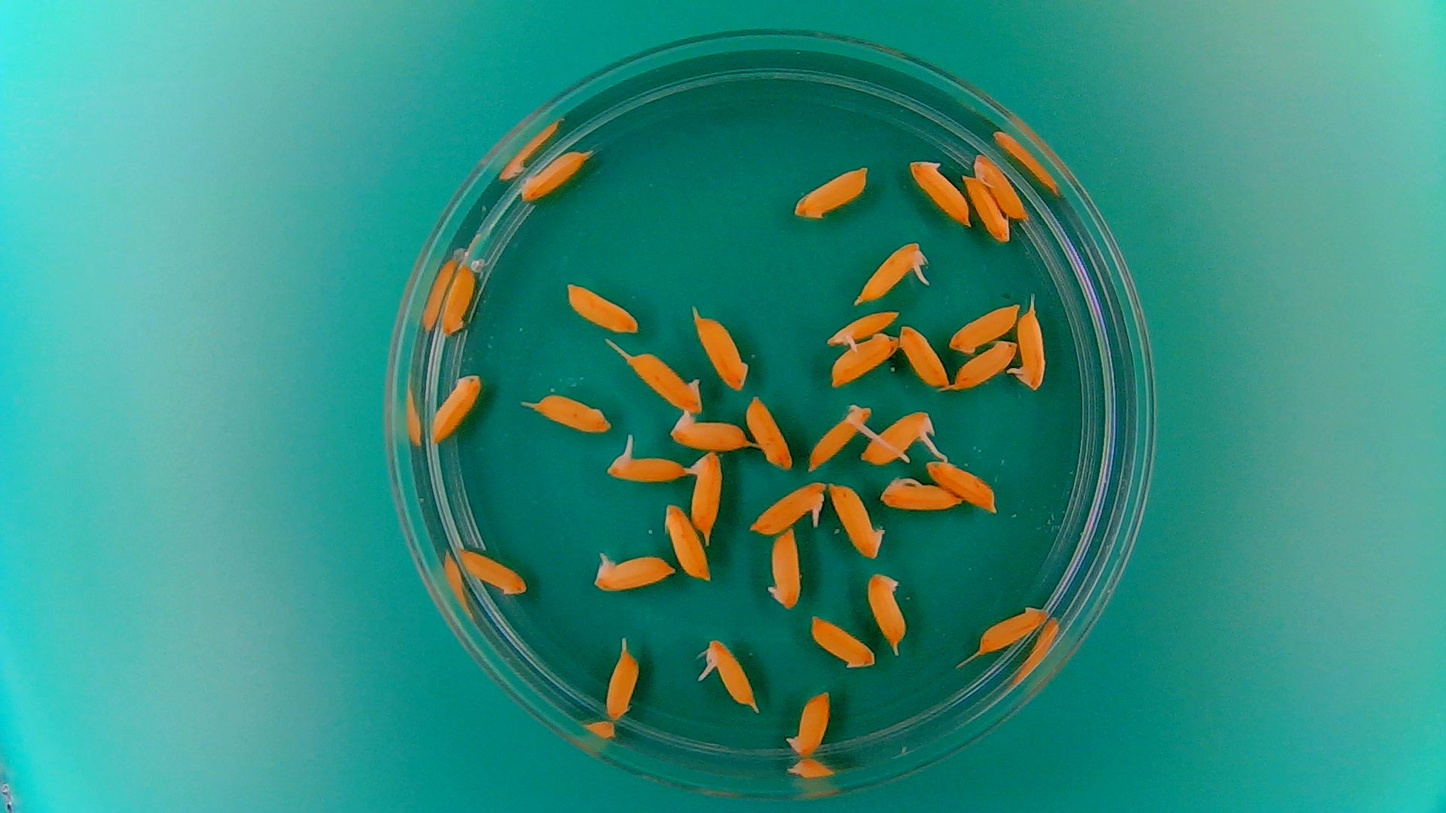no: (624, 349, 704, 413), (827, 480, 886, 561), (691, 309, 748, 392), (663, 495, 716, 584), (791, 163, 869, 222), (909, 155, 972, 228), (923, 455, 1001, 513), (826, 330, 902, 388), (428, 370, 484, 446), (518, 146, 593, 202), (563, 281, 642, 334), (946, 301, 1020, 356), (969, 152, 1027, 221), (807, 613, 877, 670), (975, 601, 1048, 655), (743, 394, 794, 471), (951, 336, 1019, 391), (453, 547, 529, 596), (865, 571, 910, 653), (898, 321, 950, 391), (667, 409, 751, 452), (531, 389, 611, 434), (962, 173, 1012, 245), (687, 448, 723, 543), (785, 688, 832, 759), (438, 260, 477, 339), (767, 528, 804, 607), (603, 646, 641, 721)
yes: (857, 407, 938, 470), (853, 238, 930, 301), (746, 479, 829, 537), (807, 398, 874, 469), (703, 639, 761, 710), (1009, 306, 1047, 392), (825, 307, 900, 348), (878, 476, 961, 513), (591, 555, 665, 595), (606, 452, 685, 484)
